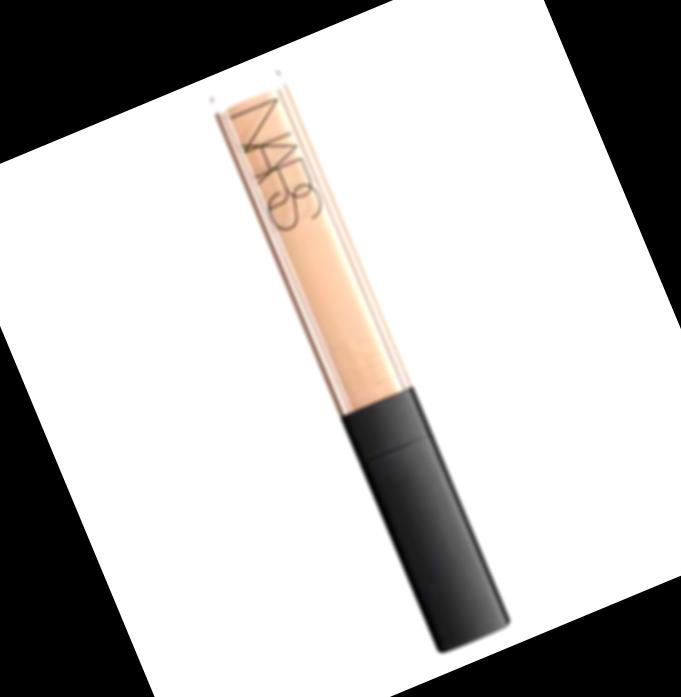cosmetic: (202, 64, 511, 655)
